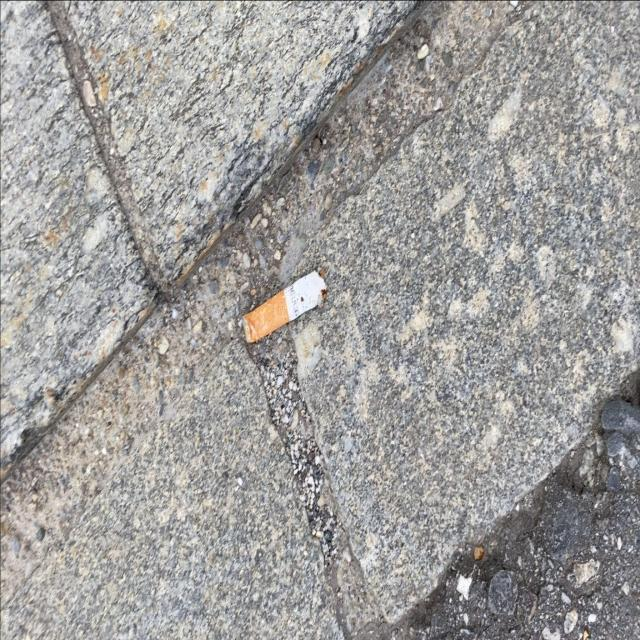other waste: (241, 265, 328, 344)
